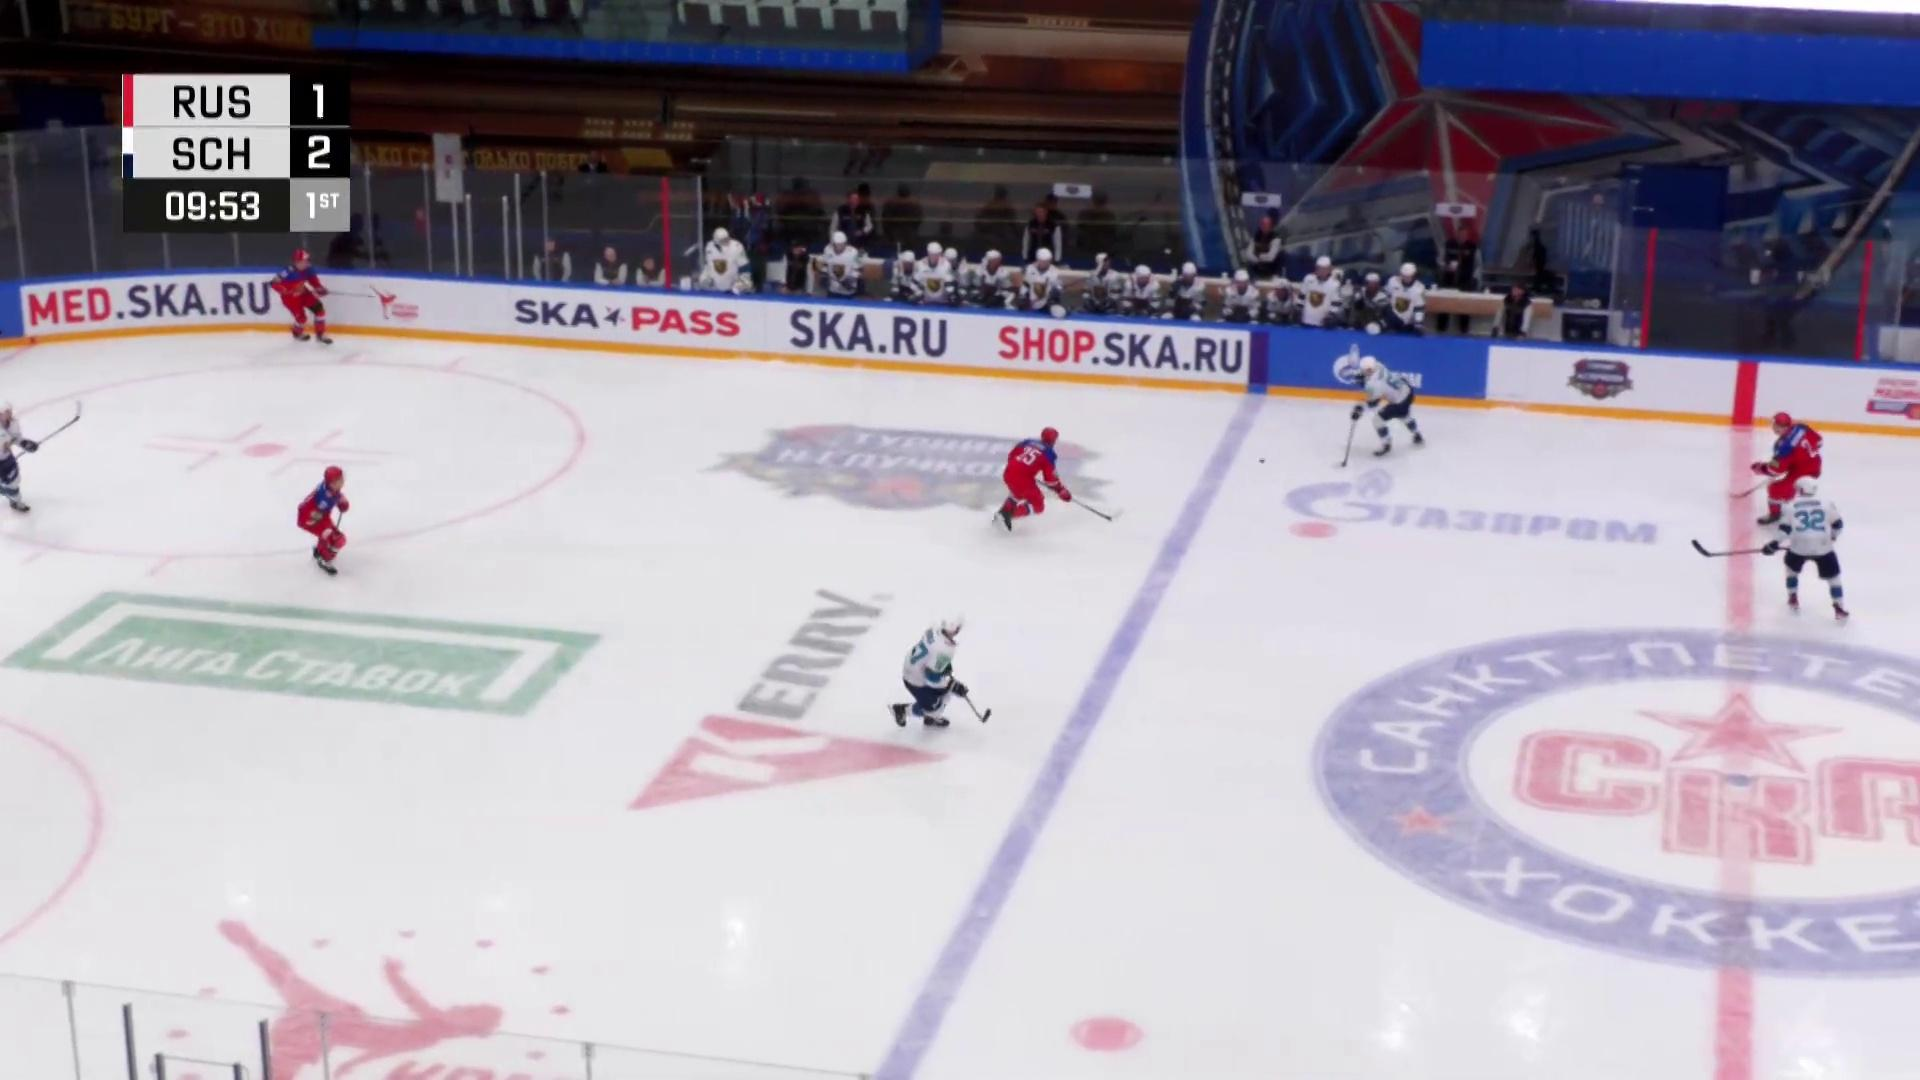ball: (1258, 459, 1265, 463)
